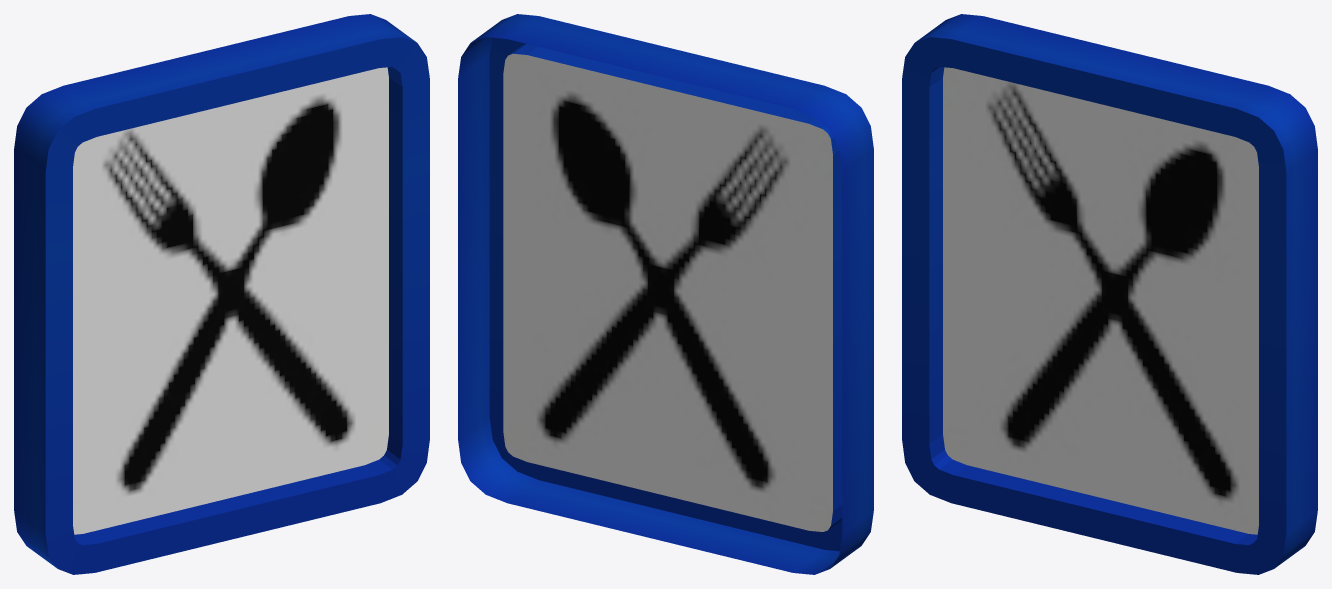
The model's file is Pancart_Refrectoire.FBX.
3 renders of one model, left to right at view 1: azimuth 30°, elevation 25°; view 2: azimuth 150°, elevation 25°; view 3: azimuth 330°, elevation 25°, orthographic.
Parts seen in each view (by area): view 1: Pancart_Refrectoire; view 2: Pancart_Refrectoire; view 3: Pancart_Refrectoire.
Part boxes in pixels (x1,y1,x2,y2): Pancart_Refrectoire: [14, 14, 429, 574]; Pancart_Refrectoire: [458, 14, 873, 574]; Pancart_Refrectoire: [902, 14, 1317, 574].
Bounding box in the file's own units: 26 × 30 × 3.7.
1 material, 1 textured.
